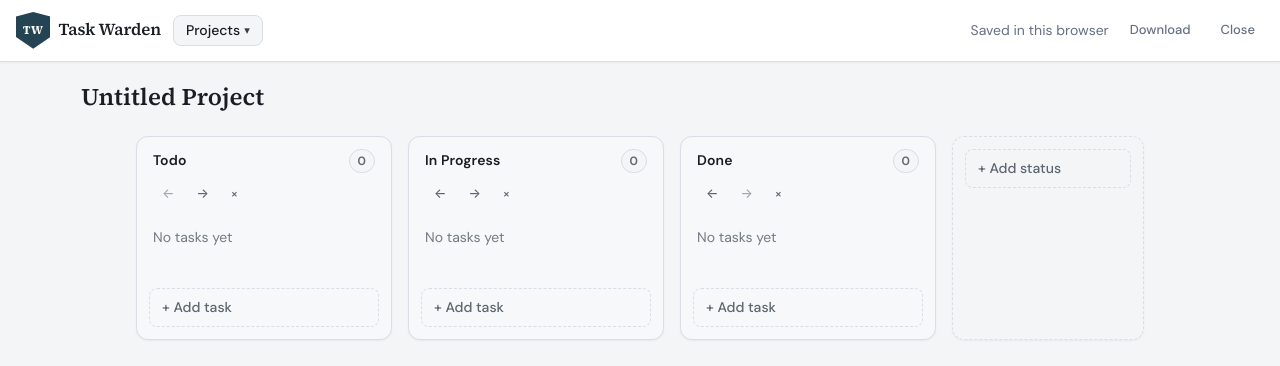
Test: HomeComponent › offers Delete this project for a browser-saved board
Click the button "Projects ▾". click: (218, 30)
box: [173,15,263,46]
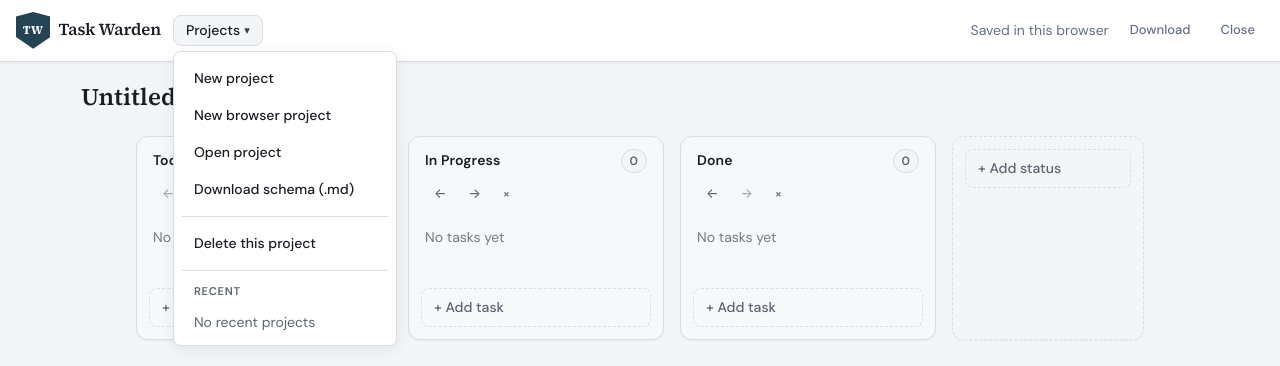
Check: the text "Delete this project" is shown, box [182,226,388,262]
